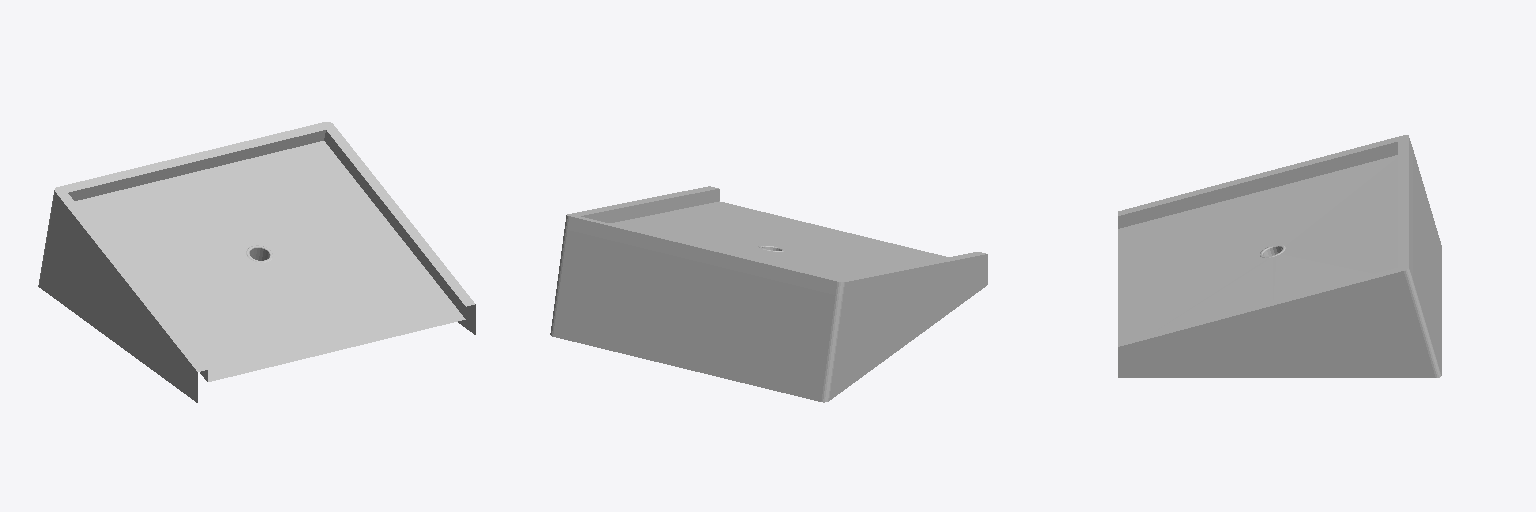
File: bSlopeHole_mid_3x3.obj
The picture shows the model from 3 angles: view 1: azimuth 30°, elevation 25°; view 2: azimuth 150°, elevation 25°; view 3: azimuth 270°, elevation 25°; orthographic projection.
Visible parts, largest first — view 1: bSlopeHole_mid_3x3; view 2: bSlopeHole_mid_3x3; view 3: bSlopeHole_mid_3x3.
Part boxes in pixels (x1,y1,x2,y2): bSlopeHole_mid_3x3: (38,122,475,402); bSlopeHole_mid_3x3: (550,186,987,402); bSlopeHole_mid_3x3: (1118,135,1441,377).
Size of the model in its own units: 3 by 1.12 by 3.02.